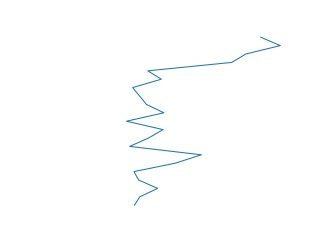crevasseRiverChannelBar: (123, 34, 283, 208)
